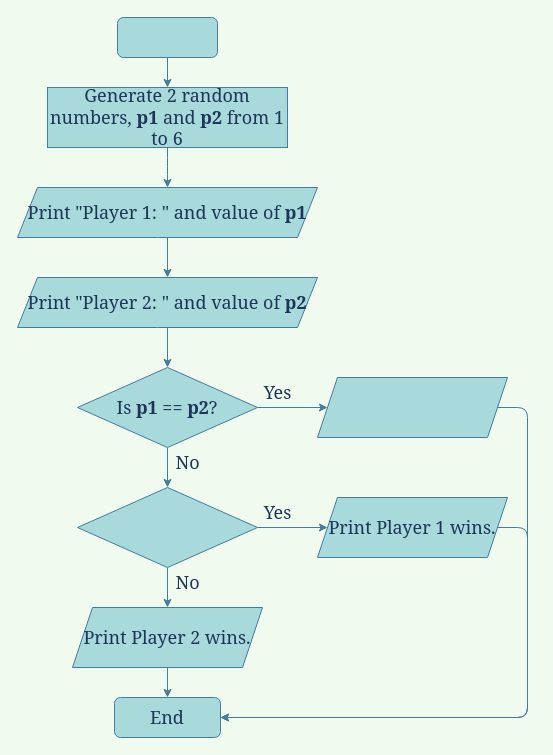
Some shapes in this 553 by 755 pixel diagram are drawn without their labels. Here are the shapes that lost their labels. From the top down, the centre of each, then its label:
pixel 167 37: Start
pixel 412 407: Print Tie.
pixel 167 527: Is p1 > p2 ?
